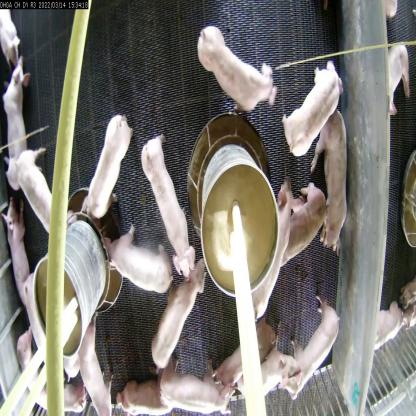Pig: (194, 17, 280, 119), (141, 131, 192, 284), (99, 214, 179, 310), (280, 56, 343, 156), (244, 183, 290, 319), (82, 111, 134, 220), (310, 117, 351, 252), (153, 261, 208, 361), (286, 301, 339, 400), (7, 148, 60, 240), (1, 64, 40, 180), (272, 177, 327, 258), (163, 356, 233, 416), (3, 200, 38, 318), (217, 312, 261, 390), (77, 322, 112, 414), (239, 349, 293, 397)
